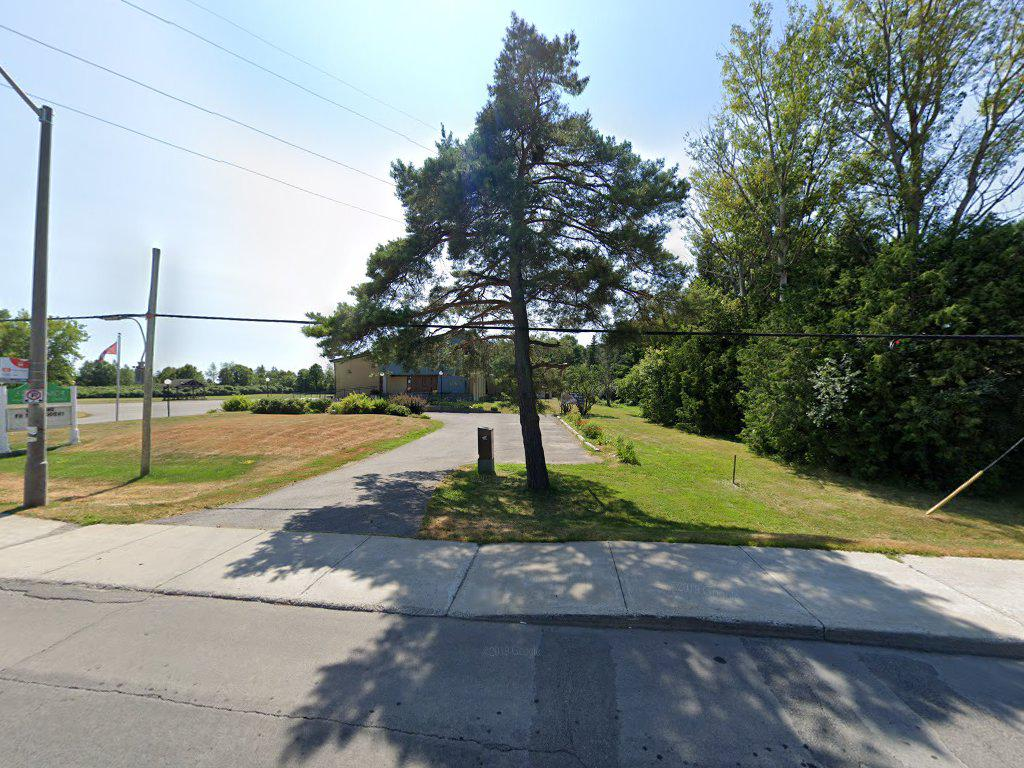trunk: (508, 284, 552, 511)
